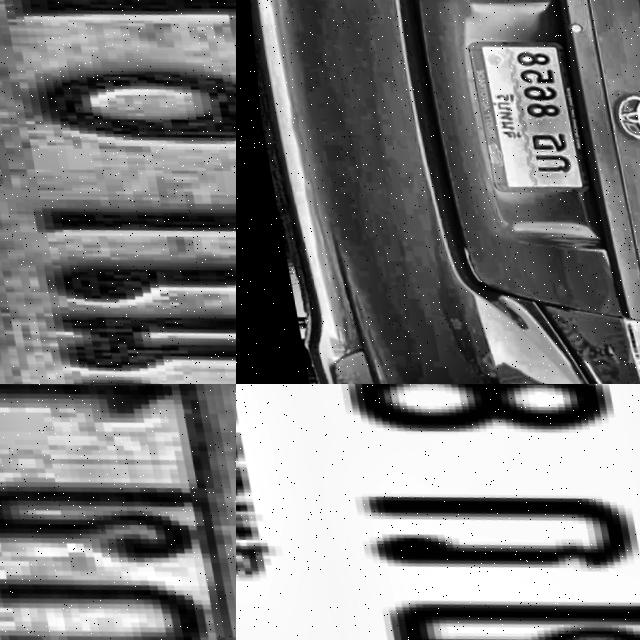license-plate: (236, 384, 640, 640), (0, 0, 236, 384), (0, 384, 236, 640), (461, 27, 590, 194)
